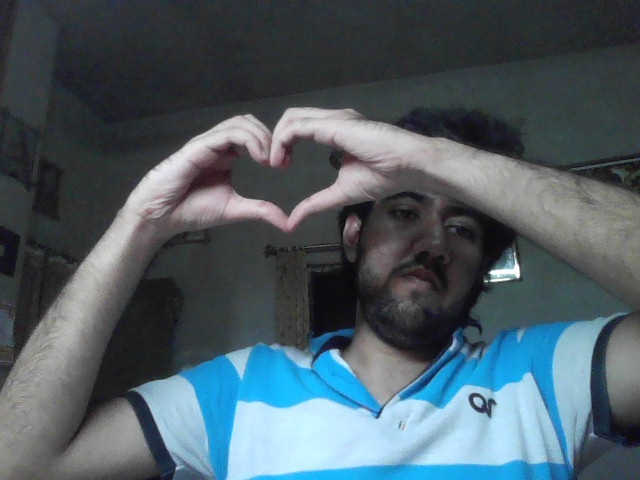Love: (145, 106, 401, 236)
